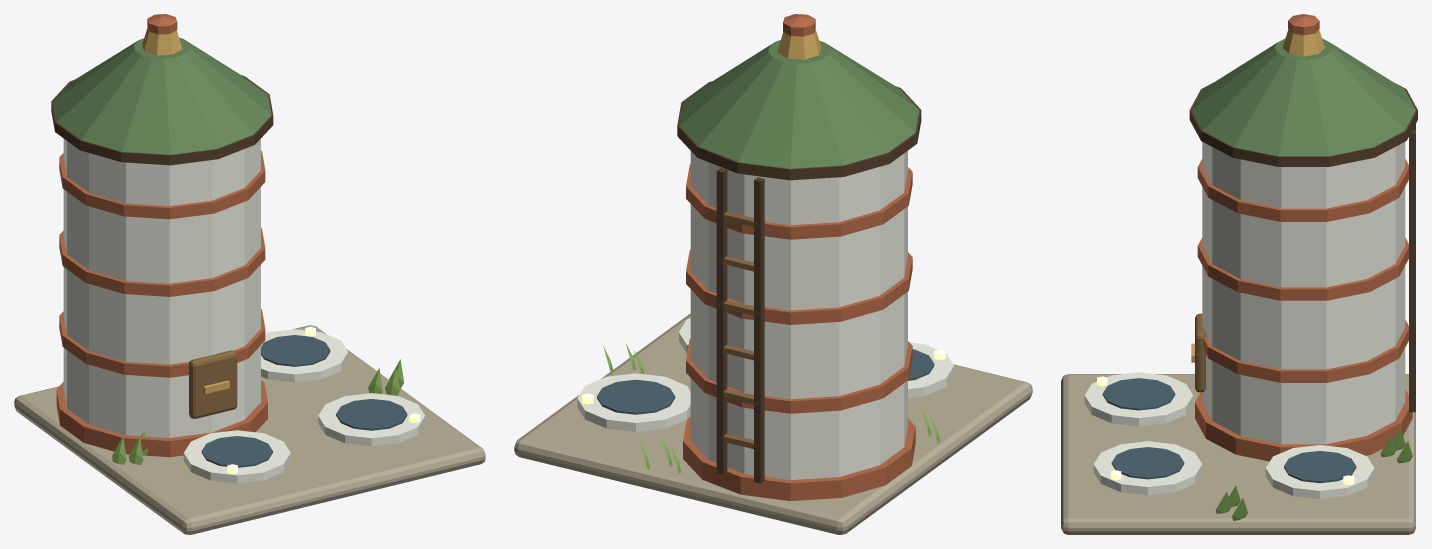
Rendered from silo.glb.
The picture shows the model from 3 angles, left to right: view 1: azimuth 30°, elevation 25°; view 2: azimuth 150°, elevation 25°; view 3: azimuth 270°, elevation 25°; orthographic projection. The views are drawn at different scales.
Visible parts, largest first — view 1: Silo_ceramic_bin, Silo_stone_apron, Silo_moss_roof, Silo_copper_footing, Silo_copper_hoop.001, Silo_copper_hoop.002, Silo_pad_disc.001, Silo_pad_disc, Silo_timber_hatch, Silo_roof_eave, Silo_copper_hoop, Silo_pad_disc.002 (+5 smaller); view 2: Silo_ceramic_bin, Silo_stone_apron, Silo_moss_roof, Silo_copper_footing, Silo_ladder_rail.001, Silo_ladder_rail, Silo_pad_disc.002, Silo_roof_eave, Silo_copper_hoop.002, Silo_copper_hoop.001, Silo_copper_hoop, Silo_pad_ring.002 (+3 smaller); view 3: Silo_ceramic_bin, Silo_stone_apron, Silo_moss_roof, Silo_copper_footing, Silo_copper_hoop.001, Silo_copper_hoop.002, Silo_copper_hoop, Silo_pad_disc.001, Silo_pad_disc, Silo_pad_disc.002, Silo_roof_eave, Silo_ladder_rail.001 (+6 smaller).
Boxes of the visible parts, x1,y1,x2,y2 form: Silo_ceramic_bin: (63, 139, 260, 437); Silo_stone_apron: (14, 325, 485, 534); Silo_moss_roof: (53, 37, 271, 154); Silo_copper_footing: (56, 380, 267, 457); Silo_copper_hoop.001: (59, 228, 265, 296); Silo_copper_hoop.002: (59, 150, 265, 219); Silo_pad_disc.001: (183, 430, 290, 483); Silo_pad_disc: (318, 393, 425, 446); Silo_timber_hatch: (189, 350, 237, 418); Silo_roof_eave: (51, 75, 273, 165); Silo_copper_hoop: (59, 309, 265, 377); Silo_pad_disc.002: (261, 329, 348, 382); Silo_ceramic_bin: (690, 151, 907, 479); Silo_stone_apron: (514, 313, 1032, 534); Silo_moss_roof: (679, 40, 919, 168); Silo_copper_footing: (683, 417, 915, 500); Silo_ladder_rail.001: (716, 168, 727, 474); Silo_ladder_rail: (754, 177, 764, 483); Silo_pad_disc.002: (577, 373, 690, 431); Silo_roof_eave: (677, 81, 921, 180); Silo_copper_hoop.002: (686, 164, 912, 239); Silo_copper_hoop.001: (686, 249, 912, 324); Silo_copper_hoop: (686, 338, 912, 413); Silo_pad_ring.002: (597, 379, 675, 414); Silo_ceramic_bin: (1202, 142, 1405, 444); Silo_stone_apron: (1061, 374, 1415, 534); Silo_moss_roof: (1191, 38, 1415, 156); Silo_copper_footing: (1195, 389, 1412, 461); Silo_copper_hoop.001: (1197, 238, 1408, 300); Silo_copper_hoop.002: (1197, 159, 1408, 221); Silo_copper_hoop: (1203, 320, 1408, 382); Silo_pad_disc.001: (1084, 372, 1193, 426); Silo_pad_disc: (1093, 441, 1202, 495); Silo_pad_disc.002: (1265, 445, 1374, 498); Silo_roof_eave: (1189, 83, 1417, 166); Silo_ladder_rail.001: (1409, 130, 1415, 412).
Size of the model in its own units: 1.97 by 2.55 by 1.97.
